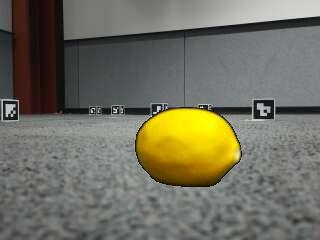lemon: (136, 108, 240, 187)
